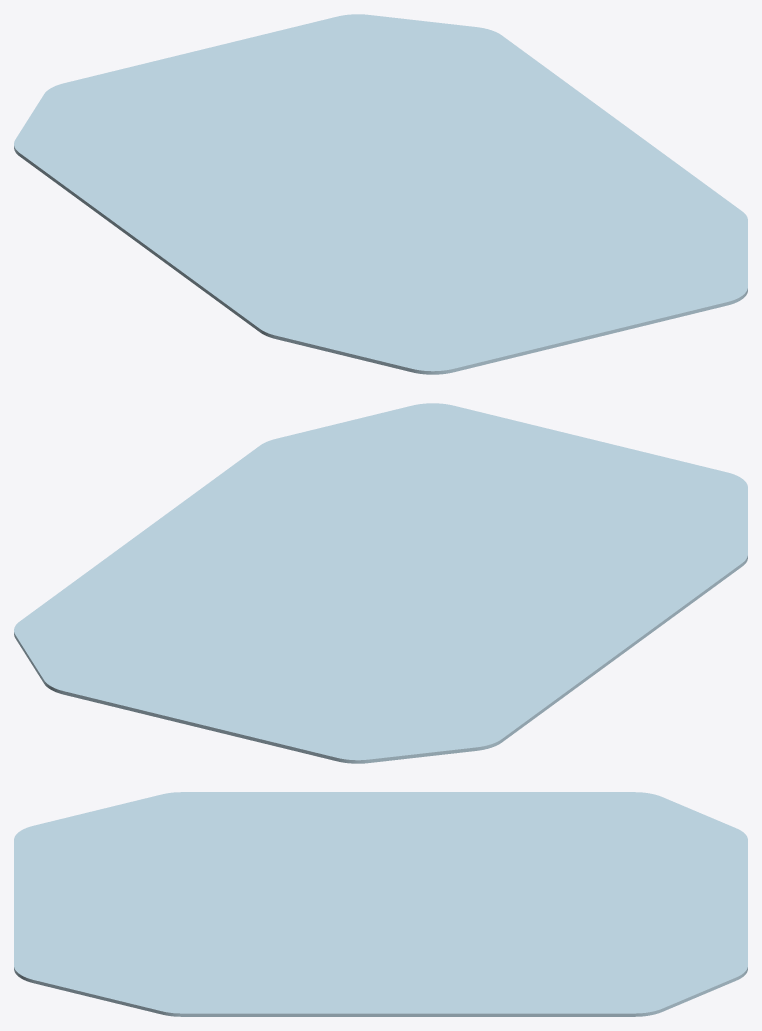
File: VS1_SIMPLE_005_vspin_top_cover.gltf
3 renders of one model, top to bottom at view 1: azimuth 30°, elevation 25°; view 2: azimuth 150°, elevation 25°; view 3: azimuth 270°, elevation 25°, orthographic. The views are drawn at different scales.
Parts seen in each view (by area): view 1: mesh337, mesh340, mesh334; view 2: mesh337, mesh330, mesh334; view 3: mesh337, mesh326, mesh324.
Boxes of the visible parts, bbox=[...] form: mesh337: bbox=[14, 14, 747, 371]; mesh340: bbox=[453, 302, 726, 372]; mesh334: bbox=[19, 153, 260, 332]; mesh337: bbox=[14, 403, 747, 760]; mesh330: bbox=[63, 691, 336, 761]; mesh334: bbox=[501, 563, 742, 742]; mesh337: bbox=[14, 792, 747, 1013]; mesh326: bbox=[181, 1013, 634, 1016]; mesh324: bbox=[33, 980, 161, 1014].
Size of the model in its own units: 0.327 by 0.00229 by 0.4582.
